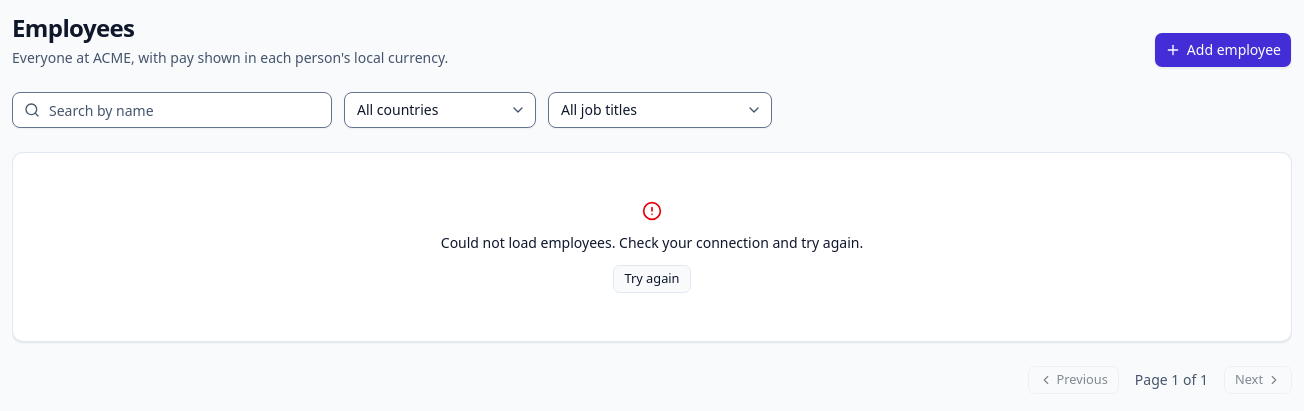
Test: EmployeesPage › shows an error with a way to retry when the employees cannot be loaded
Expected: the message shows "Could not load employees", [441, 233, 863, 252]
Click the button "Try again".
click(652, 279)  # box [614, 265, 691, 293]
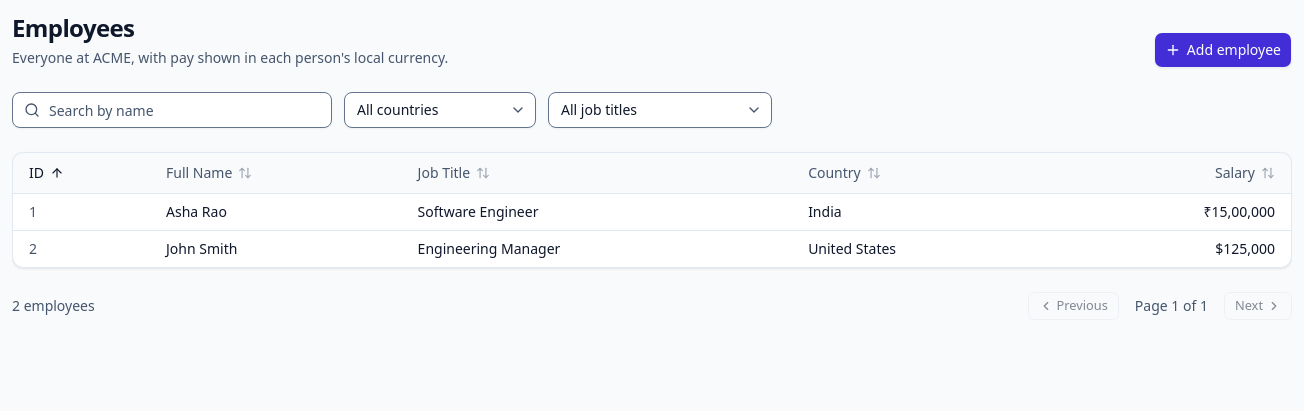
Expected: the link "Asha Rao" is shown, [166, 202, 227, 220]
